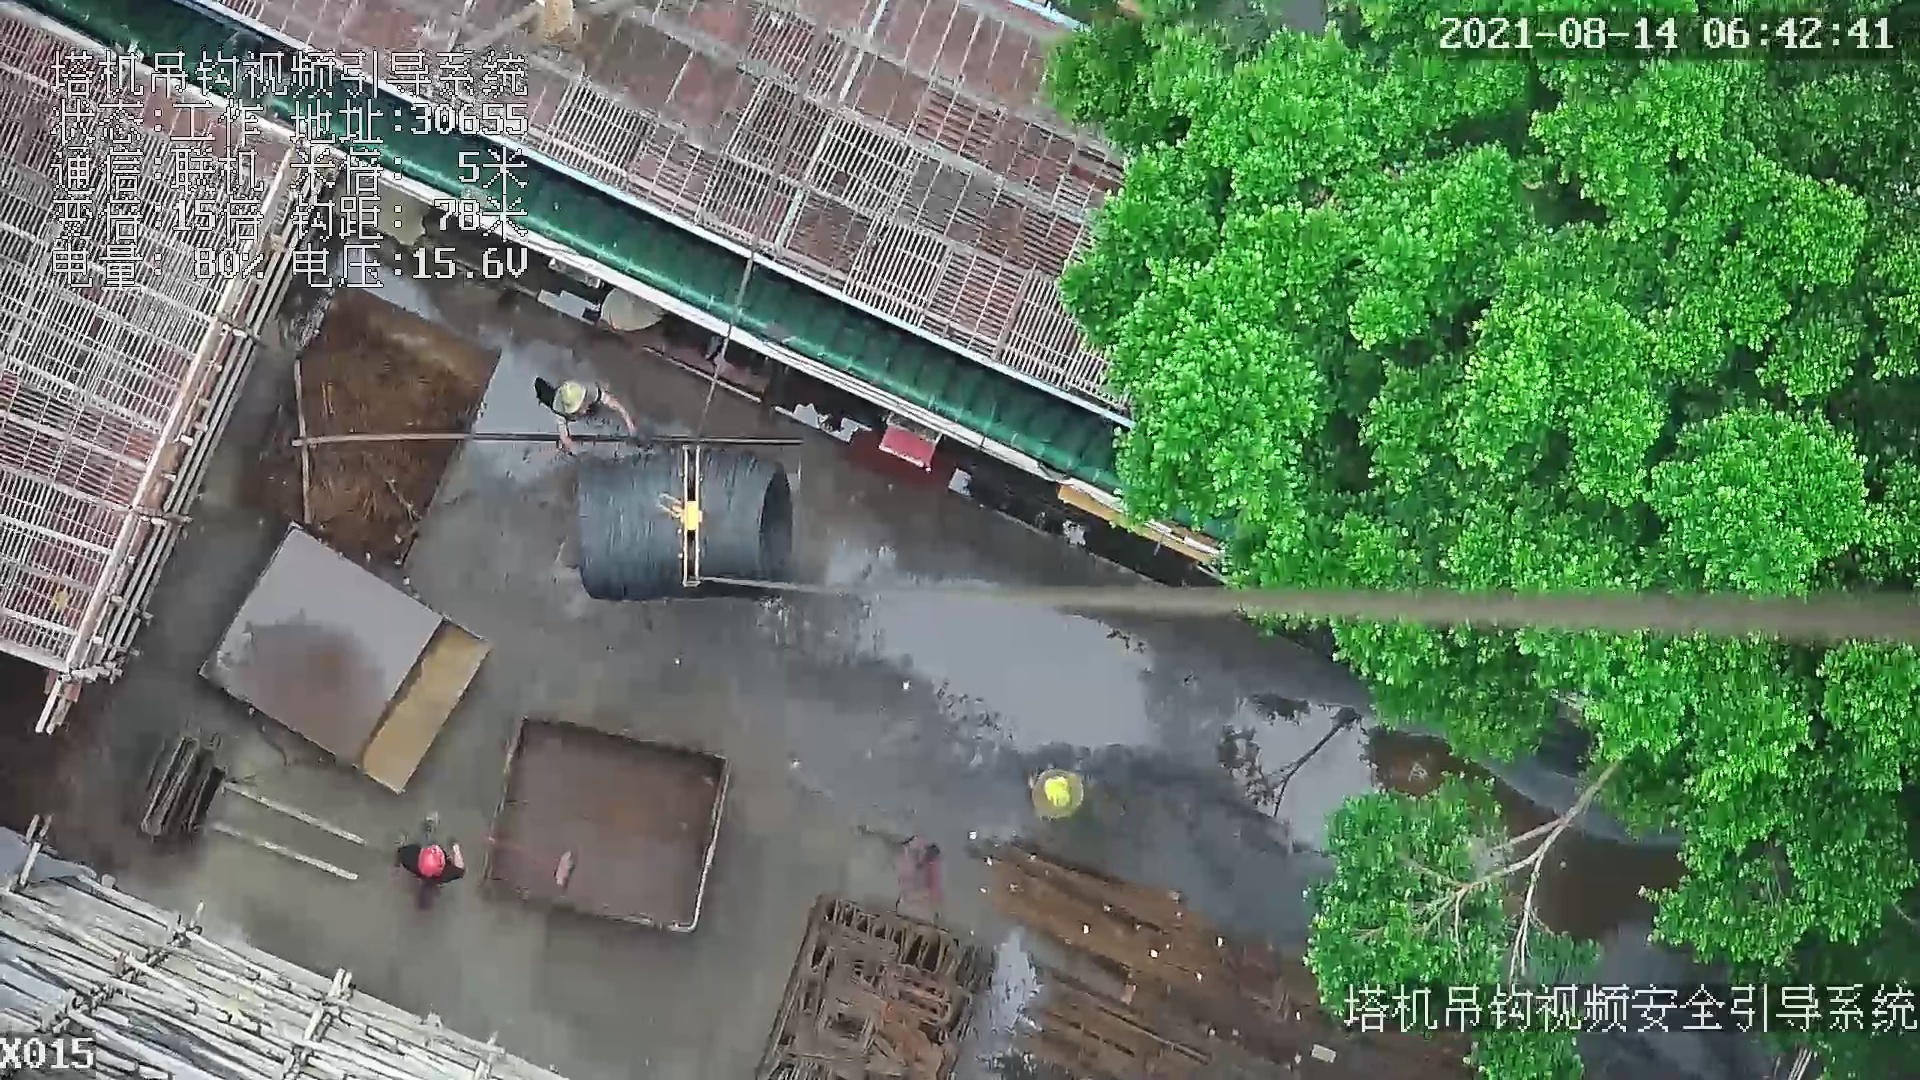helmet: (560, 383, 586, 417), (1045, 775, 1070, 808), (421, 849, 447, 874)
hook: (651, 446, 705, 586)
person: (535, 367, 638, 462), (388, 835, 470, 908), (1026, 762, 1094, 823)
